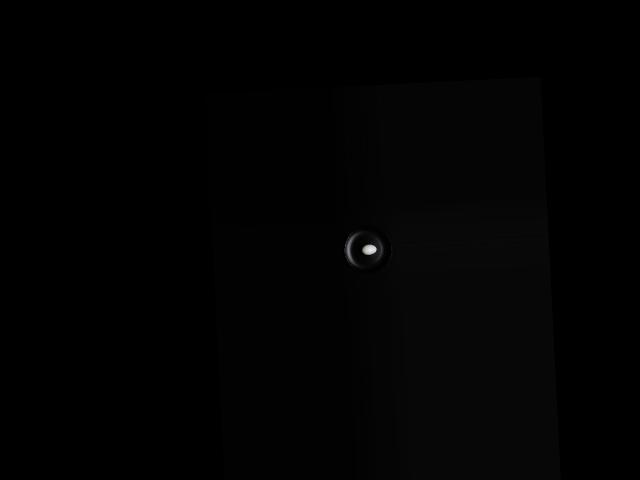egg: (361, 244, 376, 255)
